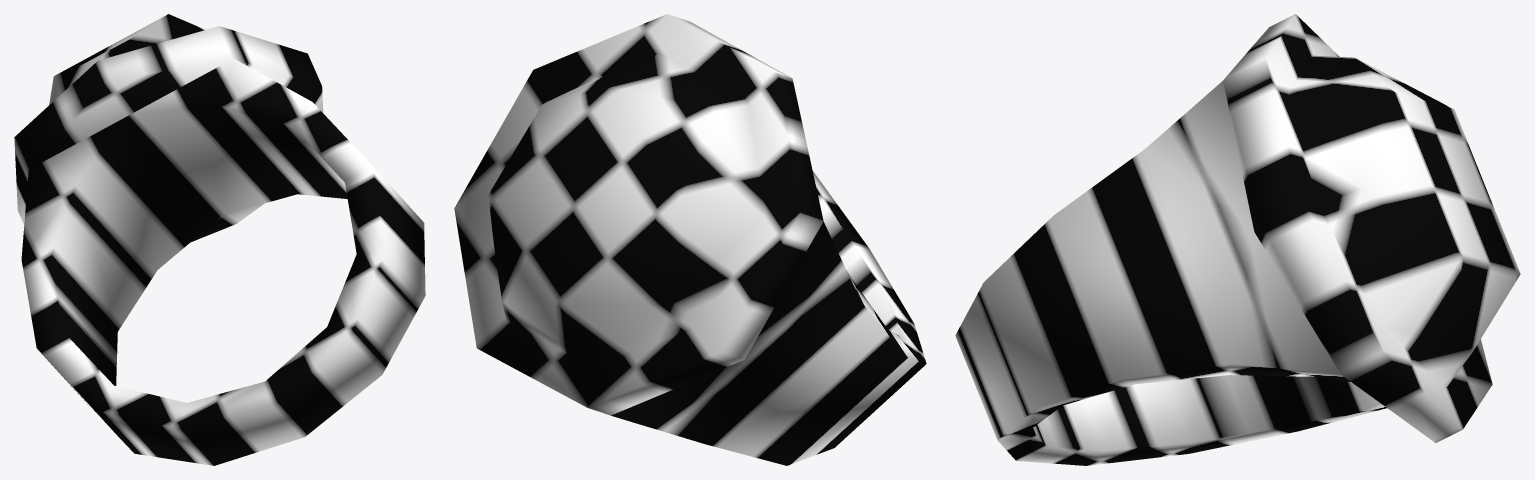
The model's file is initqu63.dae.
The picture shows the model from 3 angles, left to right: view 1: azimuth 30°, elevation 25°; view 2: azimuth 150°, elevation 25°; view 3: azimuth 270°, elevation 25°; orthographic projection. The views are drawn at different scales.
Parts seen in each view (by area): view 1: item; view 2: item; view 3: item.
Boxes of the visible parts, x1,y1,x2,y2 form: item: (14, 14, 425, 465); item: (454, 14, 926, 465); item: (955, 14, 1520, 465).
Bounding box in the file's own units: 0.884 × 1.02 × 0.9273.
1 material, 1 textured.
